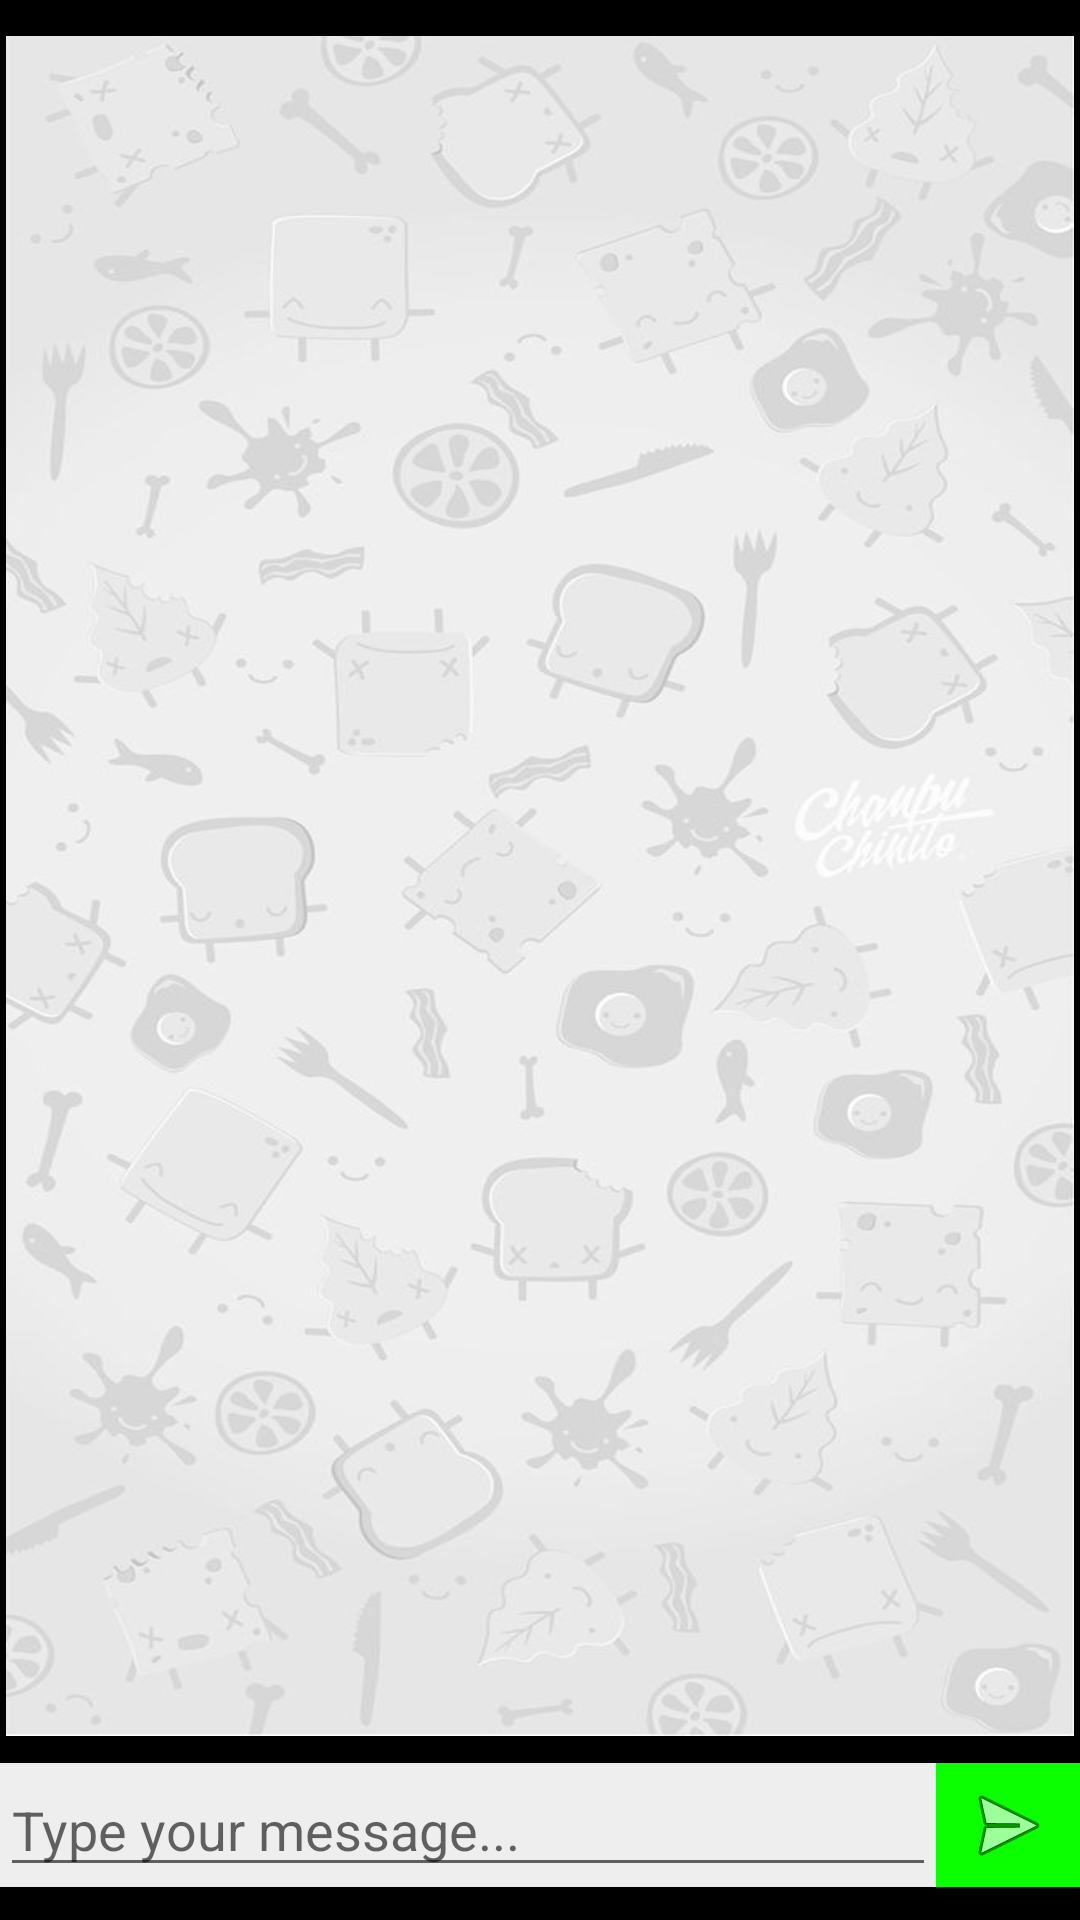

Point at icon controls on the screen. Image size 1080×1920, points as [x,y].
send: [1008,1825]
